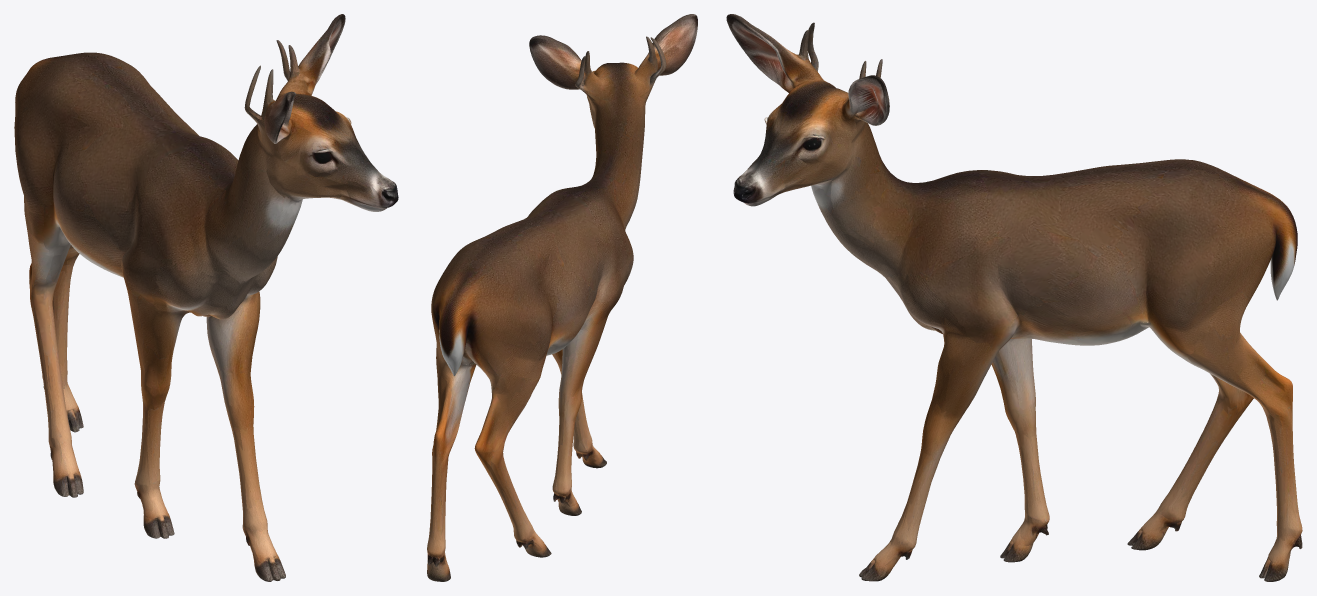
Rendered from white-tailed-deer.glb.
3 renders of one model, left to right at view 1: azimuth 30°, elevation 25°; view 2: azimuth 150°, elevation 25°; view 3: azimuth 270°, elevation 25°, orthographic. The views are drawn at different scales.
Size of the model in its own units: 0.6323 by 1.9 by 1.85.
1 material, 1 textured.
